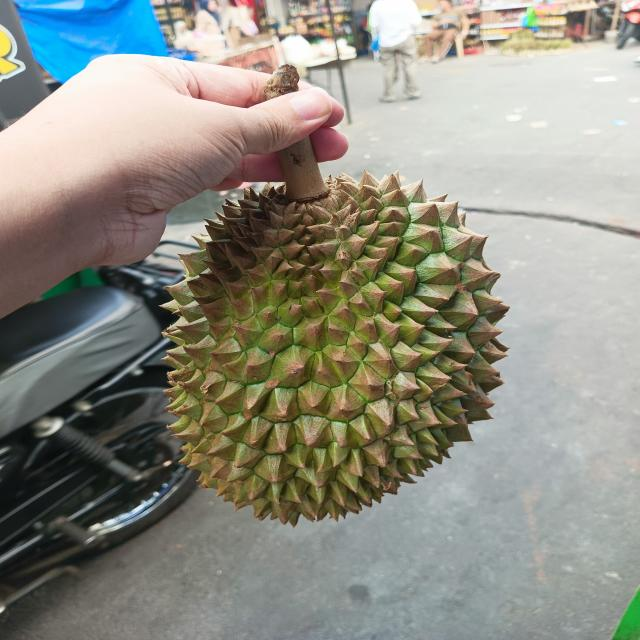mature: (161, 183, 500, 516)
